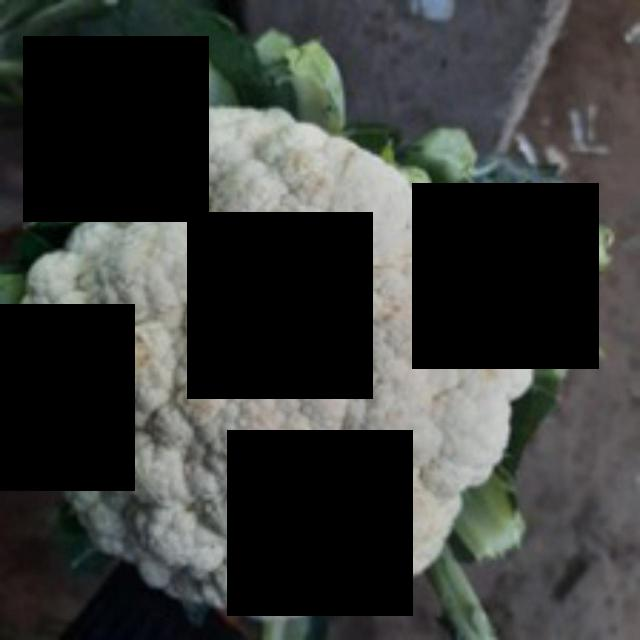cauliflower: (0, 97, 546, 637)
